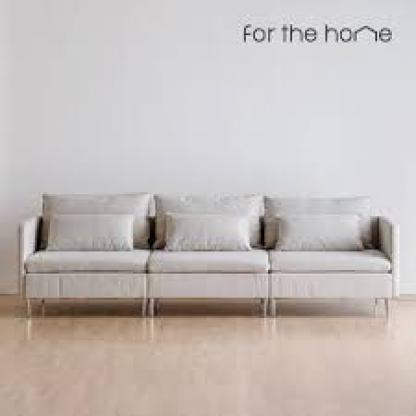sofa: (20, 192, 403, 328)
